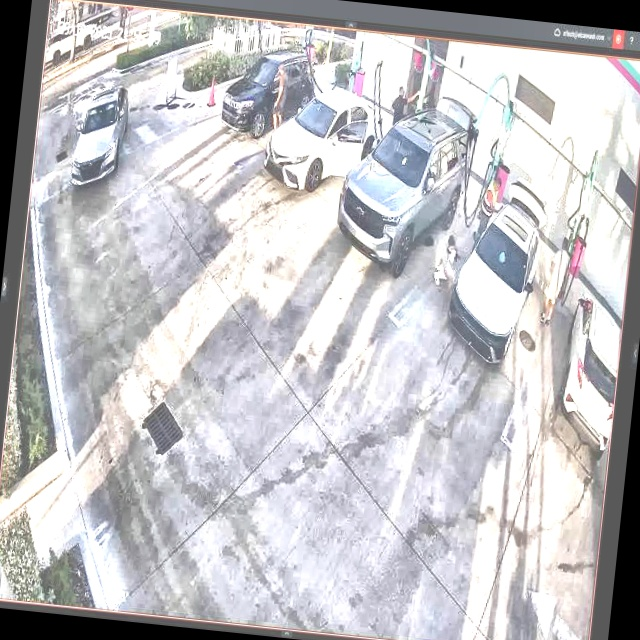Car: (339, 101, 472, 278), (447, 180, 547, 366), (265, 84, 384, 192)
